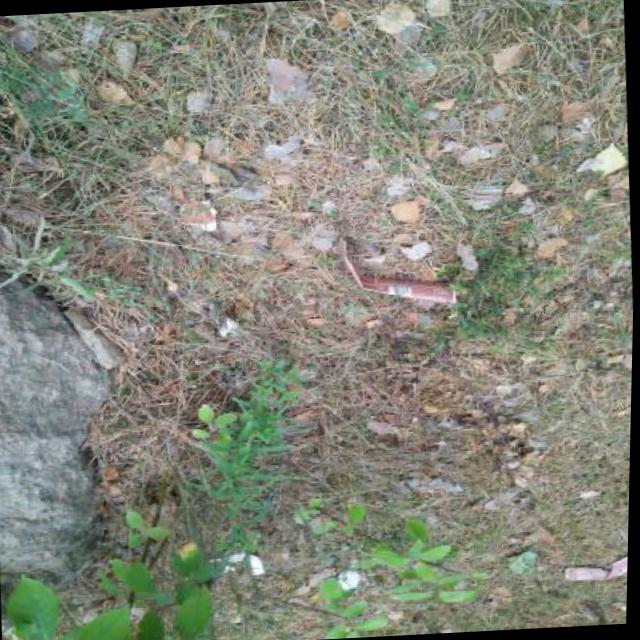cardboard: (318, 340, 401, 464), (44, 576, 76, 640)
